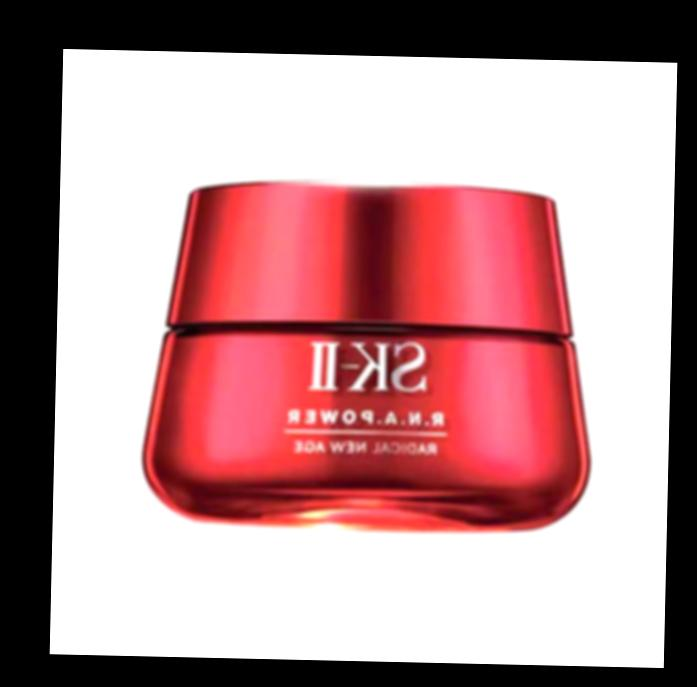cosmetic: (153, 179, 583, 524)
